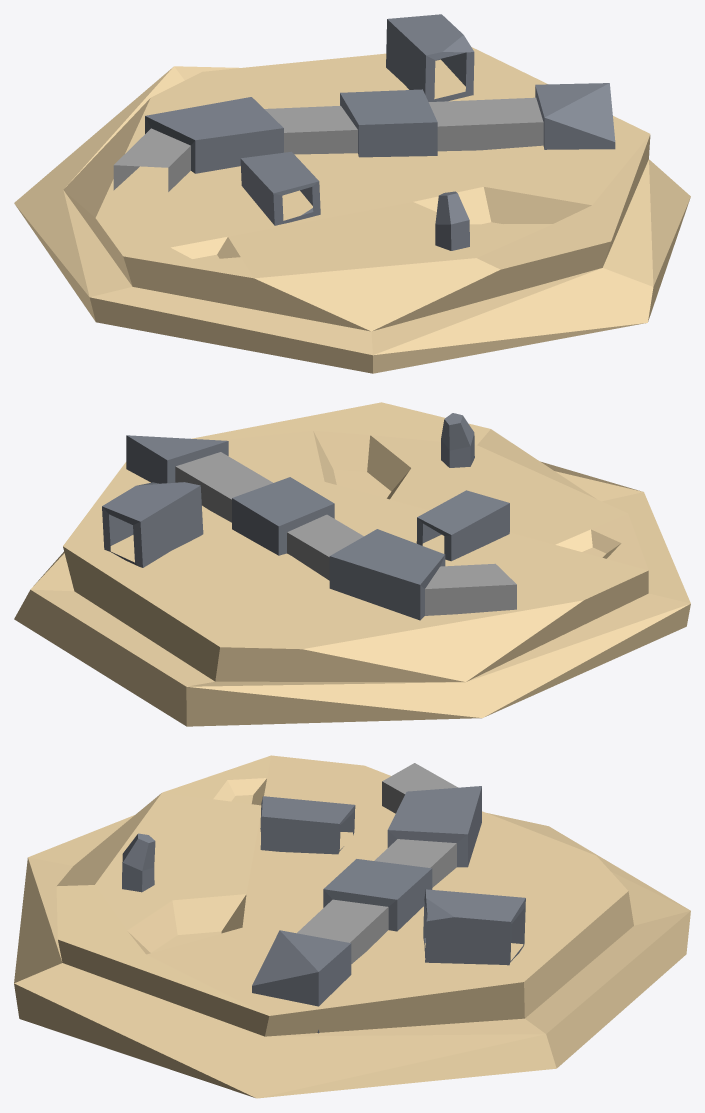
File: BrokenPortal-col.glb
3 views of the same model, one above another, from view 1: azimuth 30°, elevation 25°; view 2: azimuth 150°, elevation 25°; view 3: azimuth 270°, elevation 25° (orthographic). The views are drawn at different scales.
Visible parts, largest first — view 1: BrokenPortal-col; view 2: BrokenPortal-col; view 3: BrokenPortal-col.
Part boxes in pixels (x1,y1,x2,y2): BrokenPortal-col: (14, 14, 690, 373); BrokenPortal-col: (14, 402, 690, 726); BrokenPortal-col: (14, 755, 690, 1098).
Size of the model in its own units: 2.72 by 0.5321 by 2.68.
